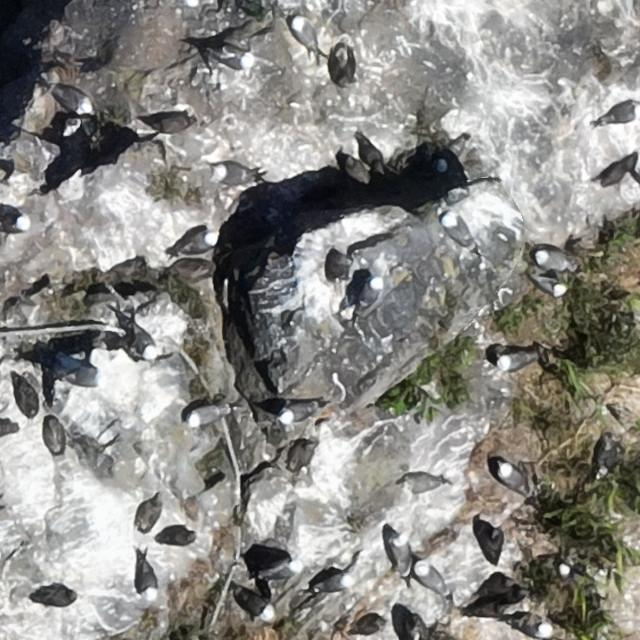umineko: (416, 562, 454, 602), (441, 210, 474, 255), (263, 558, 304, 582), (359, 276, 385, 311), (240, 592, 272, 616), (37, 587, 77, 606), (132, 327, 156, 358), (498, 464, 524, 492), (180, 232, 215, 252), (67, 367, 103, 386), (511, 619, 549, 637), (213, 164, 251, 182), (536, 252, 570, 272), (56, 88, 88, 109), (188, 406, 220, 426), (596, 440, 616, 472), (292, 18, 314, 46), (499, 353, 533, 371), (606, 105, 638, 124), (282, 405, 313, 423), (219, 52, 250, 70), (406, 473, 437, 491), (316, 576, 348, 593), (535, 276, 563, 295), (139, 569, 156, 598), (392, 535, 406, 570), (561, 565, 584, 583), (9, 215, 29, 232), (432, 158, 452, 175)
